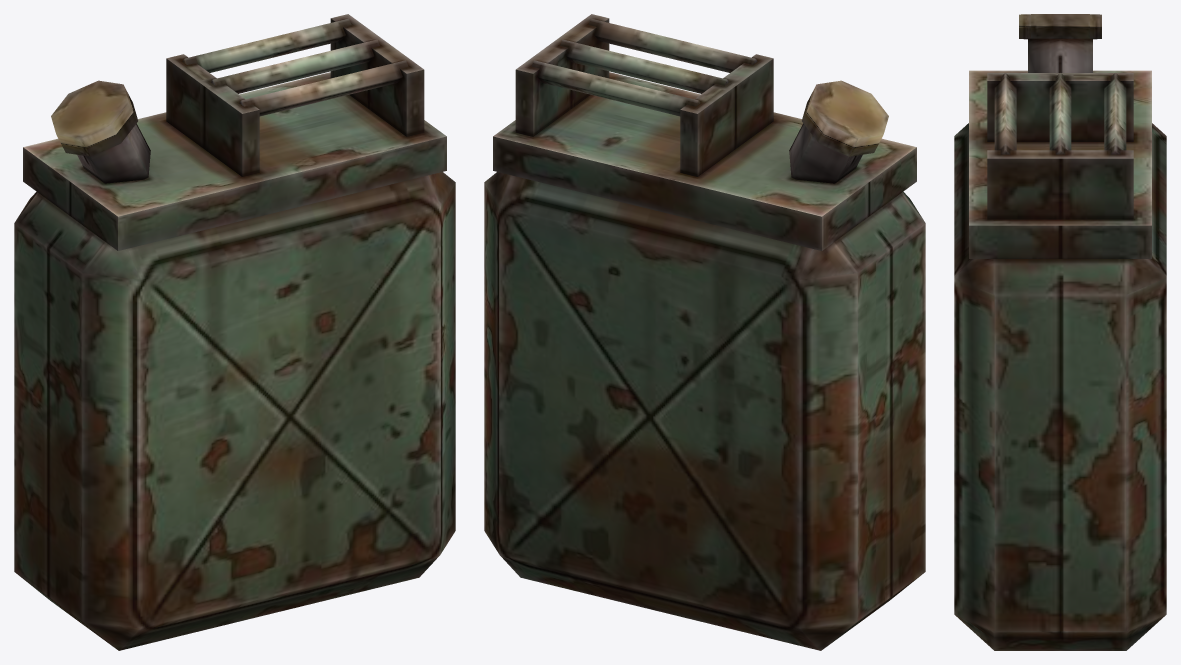
The model's file is galao.glb.
The picture shows the model from 3 angles, left to right: view 1: azimuth 30°, elevation 25°; view 2: azimuth 150°, elevation 25°; view 3: azimuth 270°, elevation 25°; orthographic projection. The views are drawn at different scales.
Visible parts, largest first — view 1: galao; view 2: galao; view 3: galao.
Part boxes in pixels (<box>): galao: <box>14,14,455,650</box>; galao: <box>484,14,925,650</box>; galao: <box>954,14,1166,650</box>.
Size of the model in its own units: 0.34 by 0.4638 by 0.174.
Materials: 1 (1 with a texture image).
